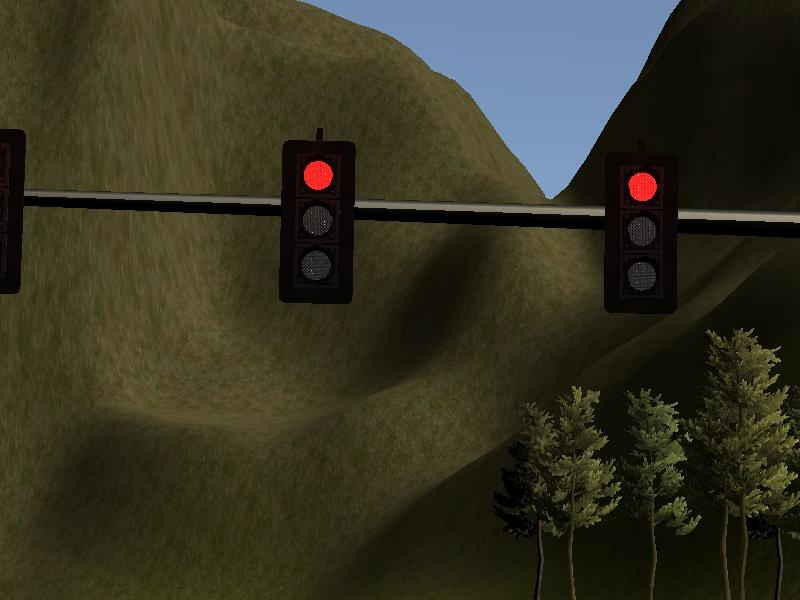red: (278, 135, 362, 310), (600, 148, 682, 319)
